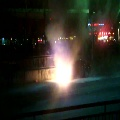fire: (54, 58, 71, 86)
